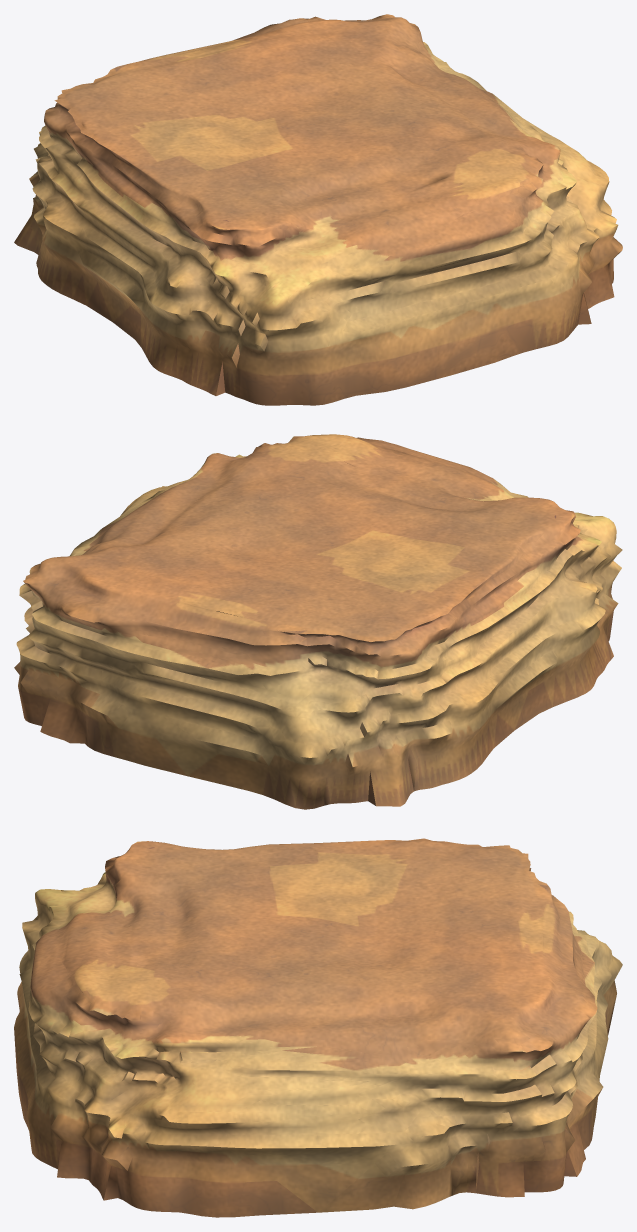
Rendered from WM_MesaSandstone_B.fbx.
3 views of the same model, one above another, from view 1: azimuth 30°, elevation 25°; view 2: azimuth 150°, elevation 25°; view 3: azimuth 270°, elevation 25° (orthographic). The views are drawn at different scales.
Parts seen in each view (by area): view 1: WM_MesaSandstone_B_LOD0; view 2: WM_MesaSandstone_B_LOD0; view 3: WM_MesaSandstone_B_LOD0.
Part boxes in pixels (x1,y1,x2,y2): WM_MesaSandstone_B_LOD0: [14, 14, 622, 405]; WM_MesaSandstone_B_LOD0: [14, 434, 622, 809]; WM_MesaSandstone_B_LOD0: [14, 838, 622, 1217].
Size of what is drawn, in the model's own units: 3.27 by 1.09 by 3.5.
